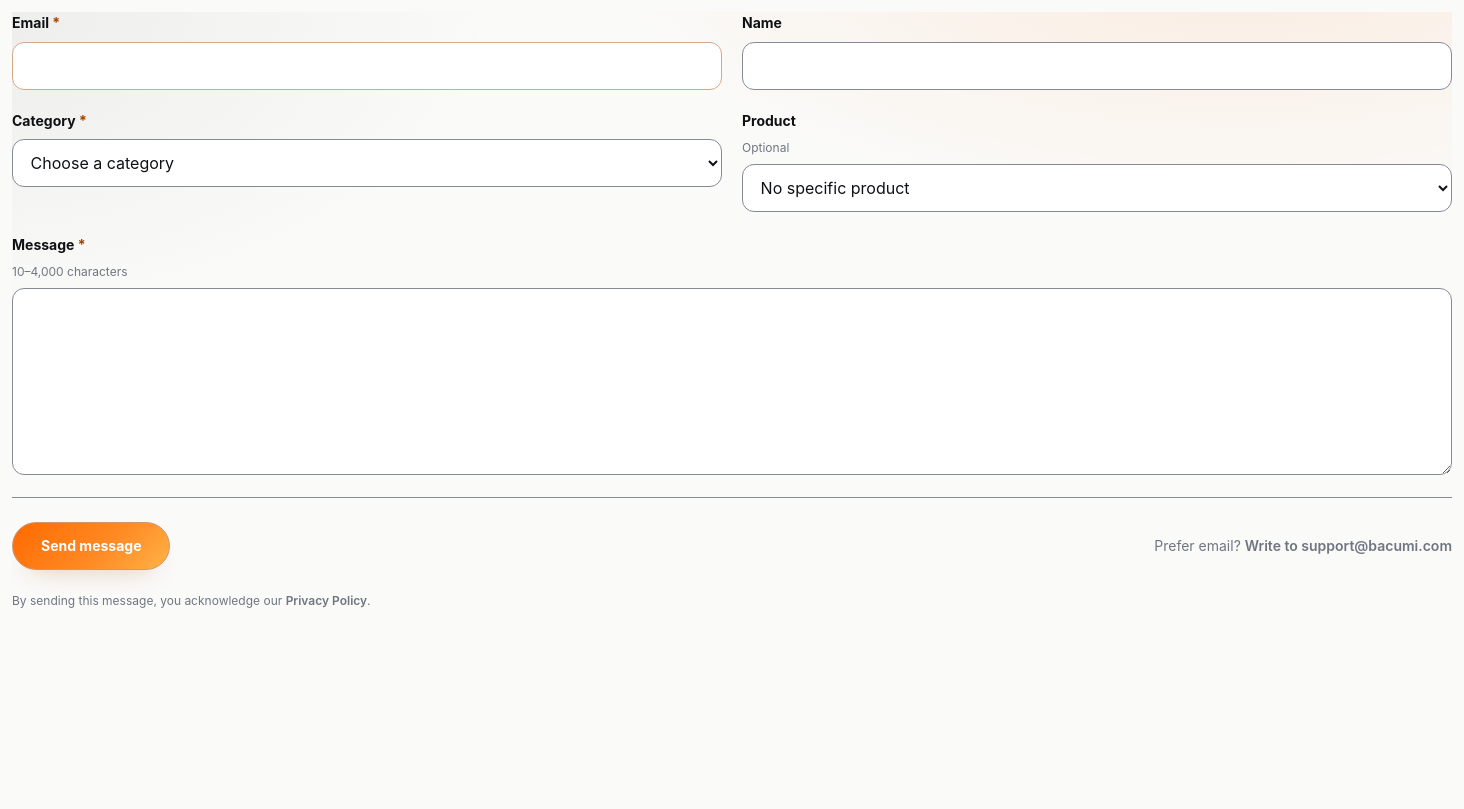
Test: ContactForm › focuses an accessible error summary and identifies required fields
This screenshot has width=1464, height=809.
Click the button "Send message" at (91, 546), box [12, 522, 170, 570]
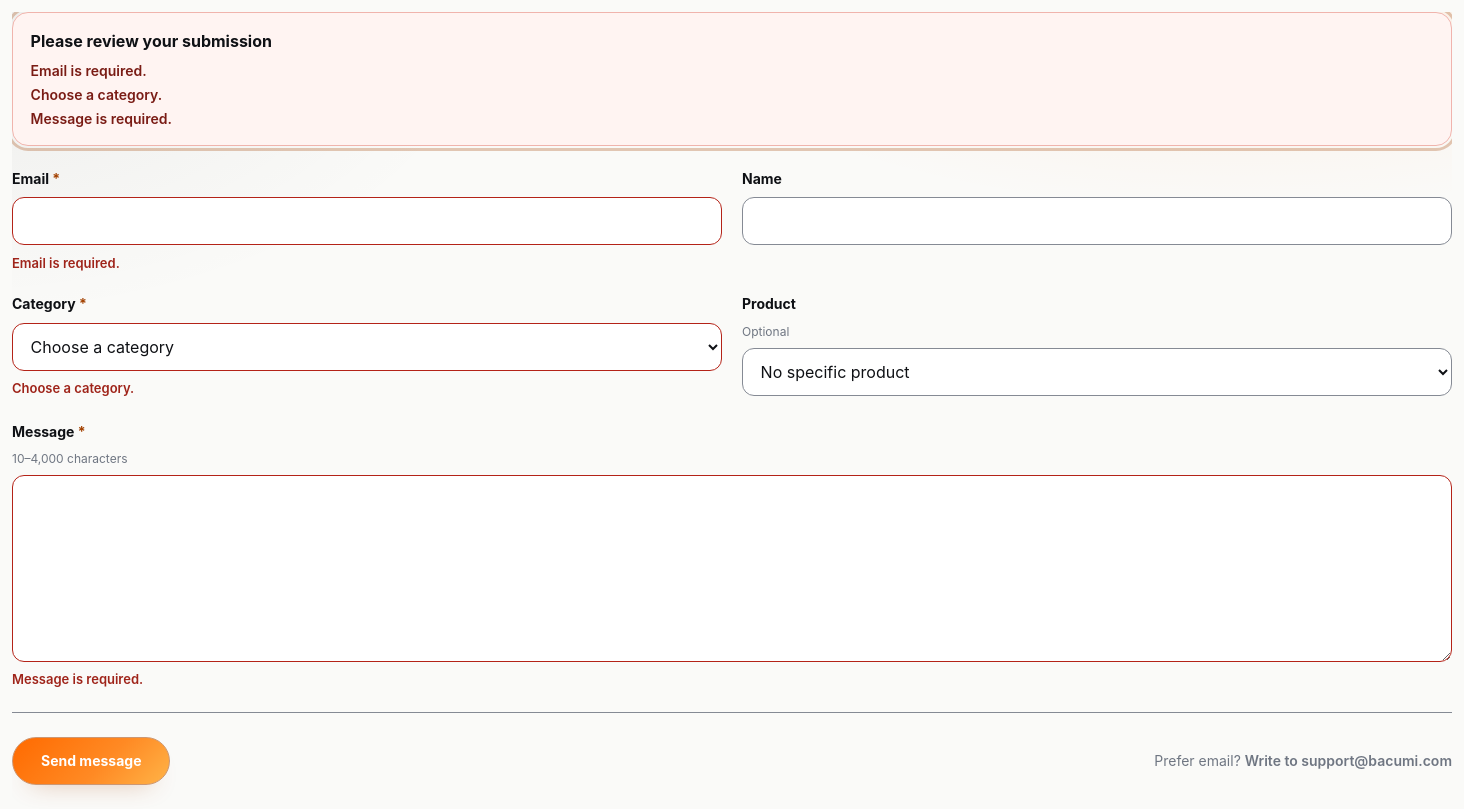
Check: the link "Email is required." is shown, box [31, 62, 147, 79]
